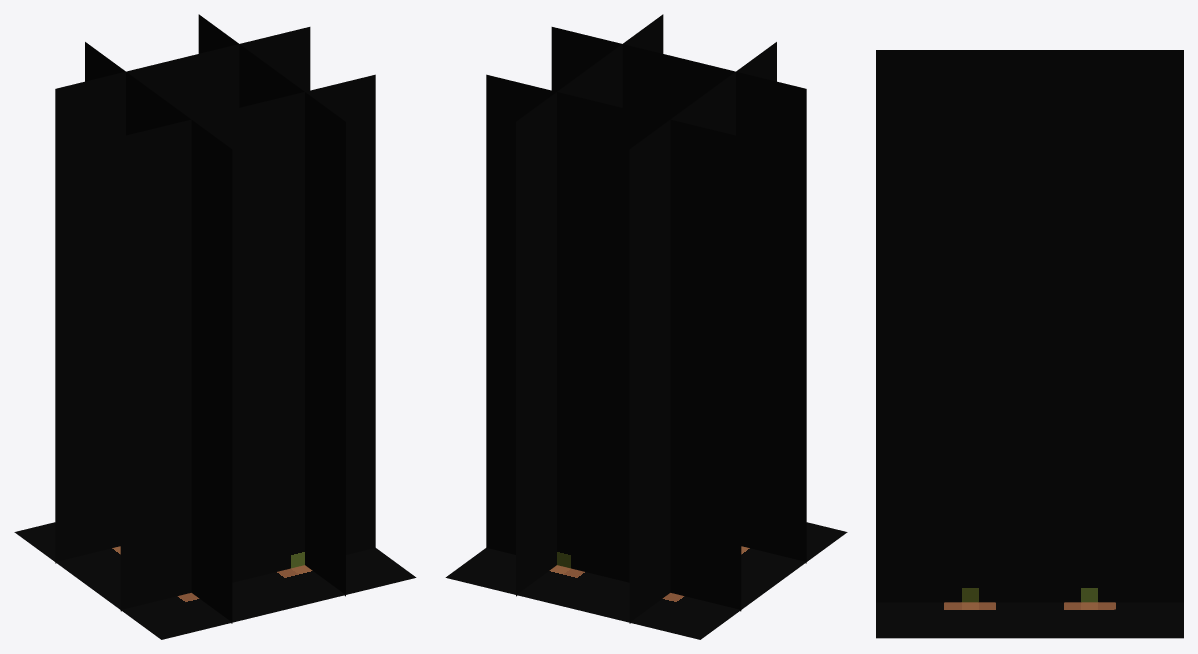
File: carrot_seed.gltf
3 views of the same model, side by side, from view 1: azimuth 30°, elevation 25°; view 2: azimuth 150°, elevation 25°; view 3: azimuth 270°, elevation 25° (orthographic). The views are drawn at different scales.
Visible parts, largest first — view 1: Plane.157; view 2: Plane.157; view 3: Plane.157.
Boxes of the visible parts, box(x1,y1,x2,y2) form: Plane.157: box(14, 14, 416, 639); Plane.157: box(445, 14, 847, 639); Plane.157: box(876, 50, 1183, 638).
Size of the model in its own units: 1.8 by 3.2 by 1.8.
2 materials, 2 textured.
